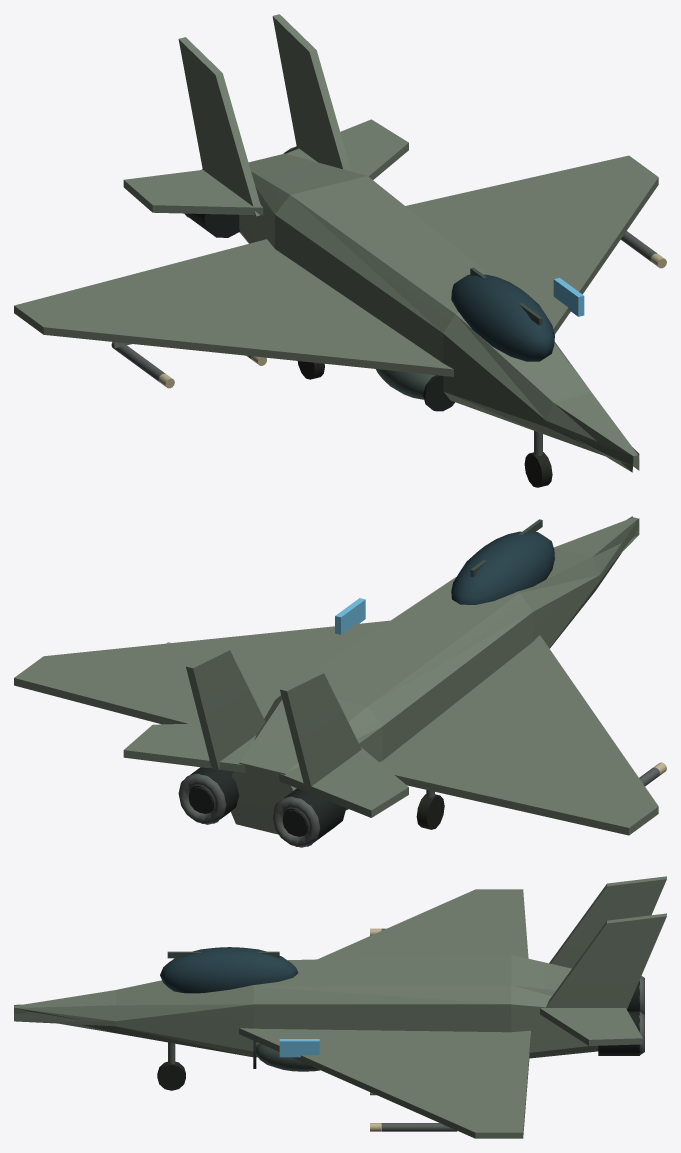
File: interceptor.glb
3 renders of one model, top to bottom at view 1: azimuth 30°, elevation 25°; view 2: azimuth 150°, elevation 25°; view 3: azimuth 270°, elevation 25°, orthographic. The views are drawn at different scales.
Parts seen in each view (by area): view 1: armor, equipment (×2), glass, marking; view 2: armor, equipment (×2), glass, marking; view 3: armor, glass, equipment (×2), marking.
Boxes of the visible parts, x1,y1,x2,y2 form: armor: (14,14,658,472); equipment (×2): (111,146,666,487); glass: (451,274,554,361); marking: (553,278,584,316); armor: (14,516,658,835); equipment (×2): (166,519,666,847); glass: (451,531,554,604); marking: (335,598,365,634); armor: (14,876,666,1138); glass: (160,947,298,993); equipment (×2): (157,928,644,1131); marking: (279,1039,319,1057).
Size of the model in its own units: 7.2 by 2.64 by 8.17.
